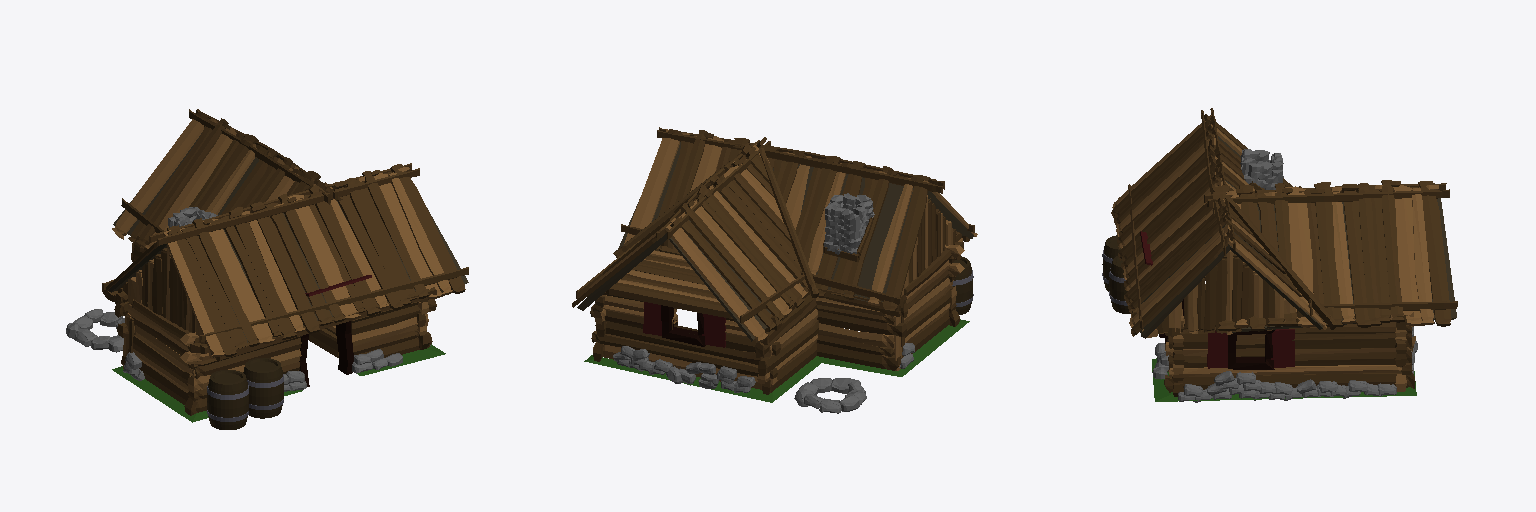
File: House1.obj
3 renders of one model, left to right at view 1: azimuth 30°, elevation 25°; view 2: azimuth 150°, elevation 25°; view 3: azimuth 270°, elevation 25°, orthographic.
Parts seen in each view (by area): view 1: House; view 2: House; view 3: House.
Part boxes in pixels (bbox=[...]): House: bbox=[66, 109, 468, 429]; House: bbox=[572, 127, 977, 413]; House: bbox=[1102, 108, 1457, 402].
Bounding box in the file's own units: 420 × 246 × 449.